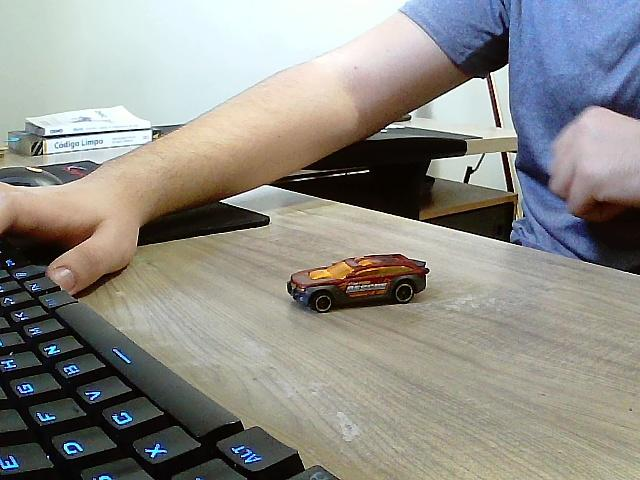Carro: (287, 255, 429, 315)
